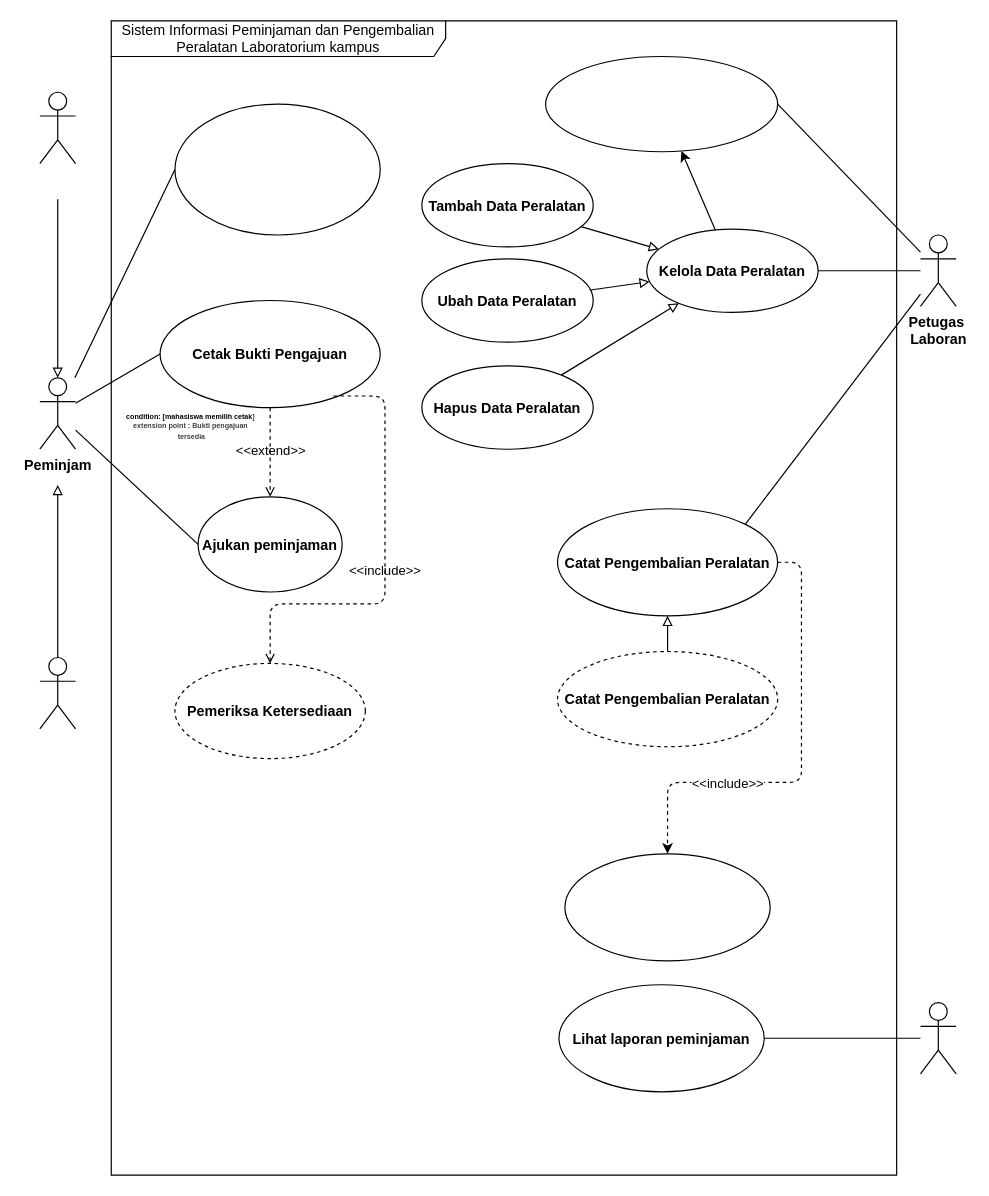
The diagram is 989 pixels wide and 1196 high, and some of its shapes have lost their labels. The shapes that lost their labels are listed below. From the top down, each one's centre as x and y in pixels, then its label:
At point (661, 103): "Proses Keputusan Peminjaman".
At point (57, 127): "Mahasiswa".
At point (277, 169): "Lihat ketersediaan peralatan".
At point (57, 692): "Dosen".
At point (667, 907): "Periksa Kondisi Peralatan".
At point (937, 1037): "Kepala laboran".
